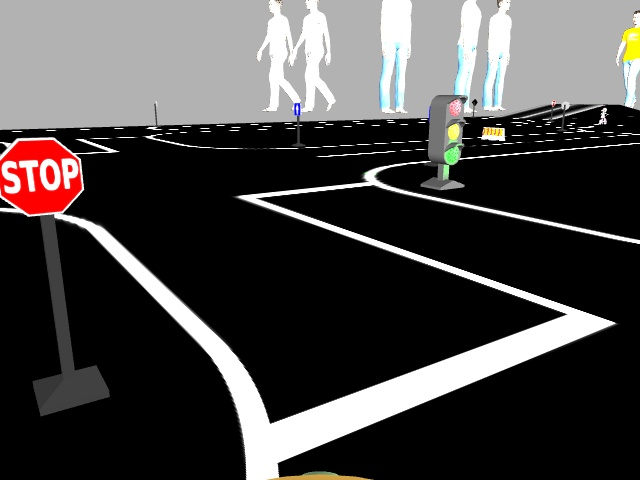ClosedRoadStand: (481, 126, 506, 141)
Stop: (0, 137, 87, 217)
TrafficLight: (430, 96, 462, 164)
